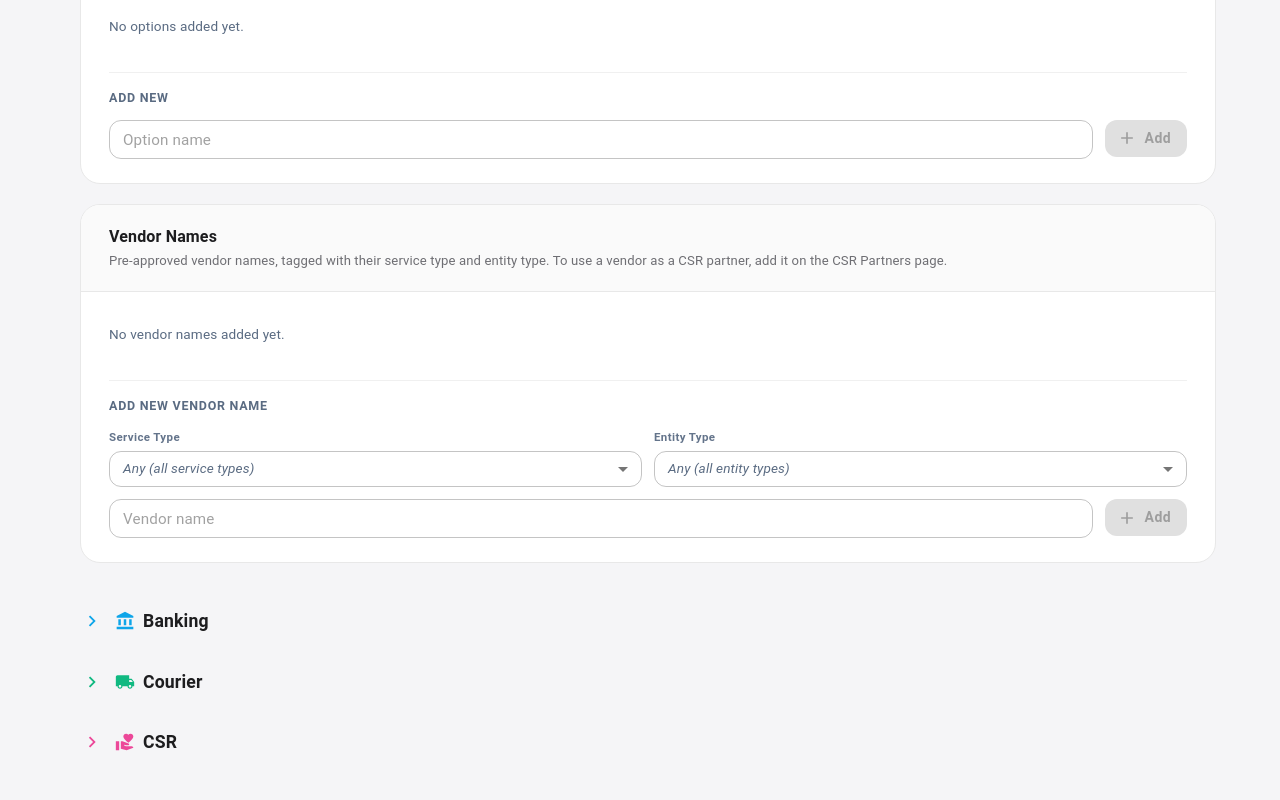
Scenario: a type in use that cannot be deleted shows the server reason
(page scrolled)
What coordinates should you click on to do the following:
click the text "CSR"
I would click on:
 (160, 742)
Its box is x1=143 y1=729 x2=177 y2=755.
(page scrolled)
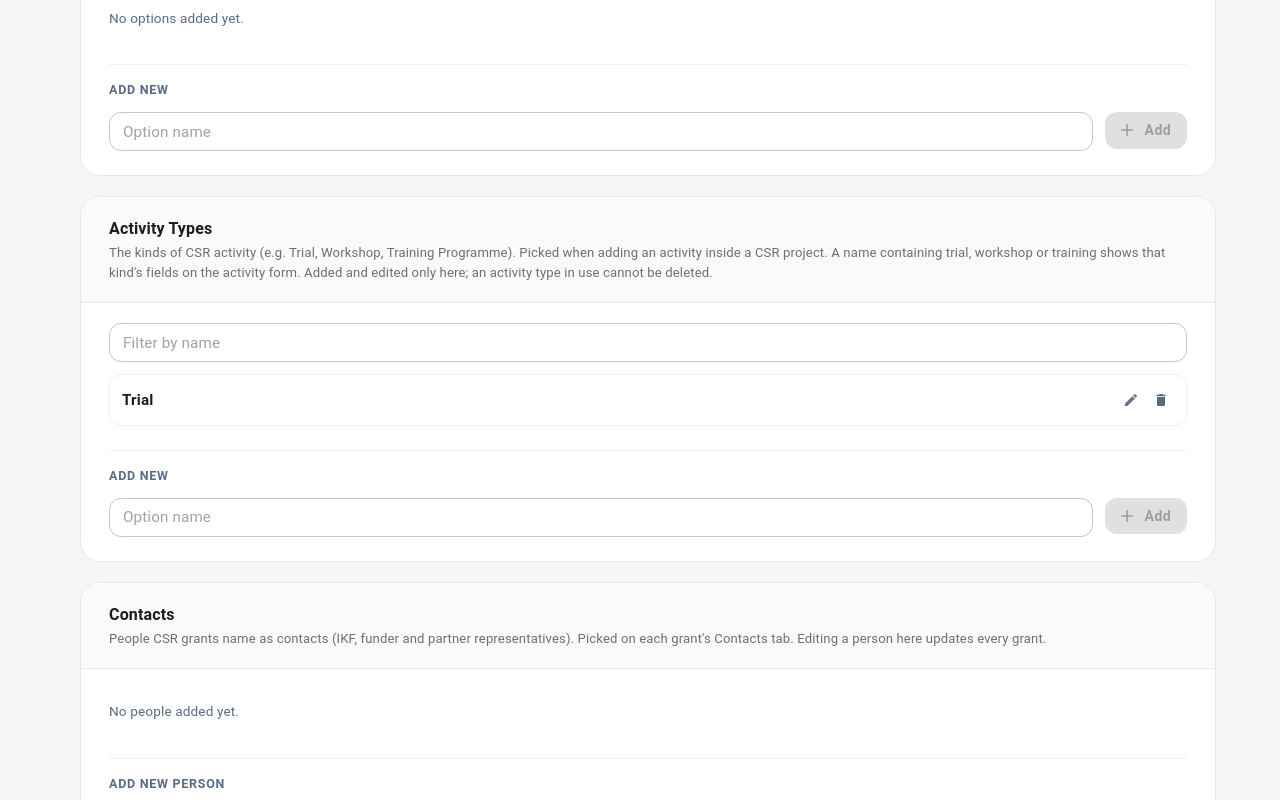
Check: the text "Trial" is shown, box x1=122 y1=389 x2=153 y2=412
What coordinates should you click on to do the following:
click the button named "Delete"
I would click on:
 (1161, 400)
Its box is x1=1148 y1=387 x2=1174 y2=413.
(page scrolled)
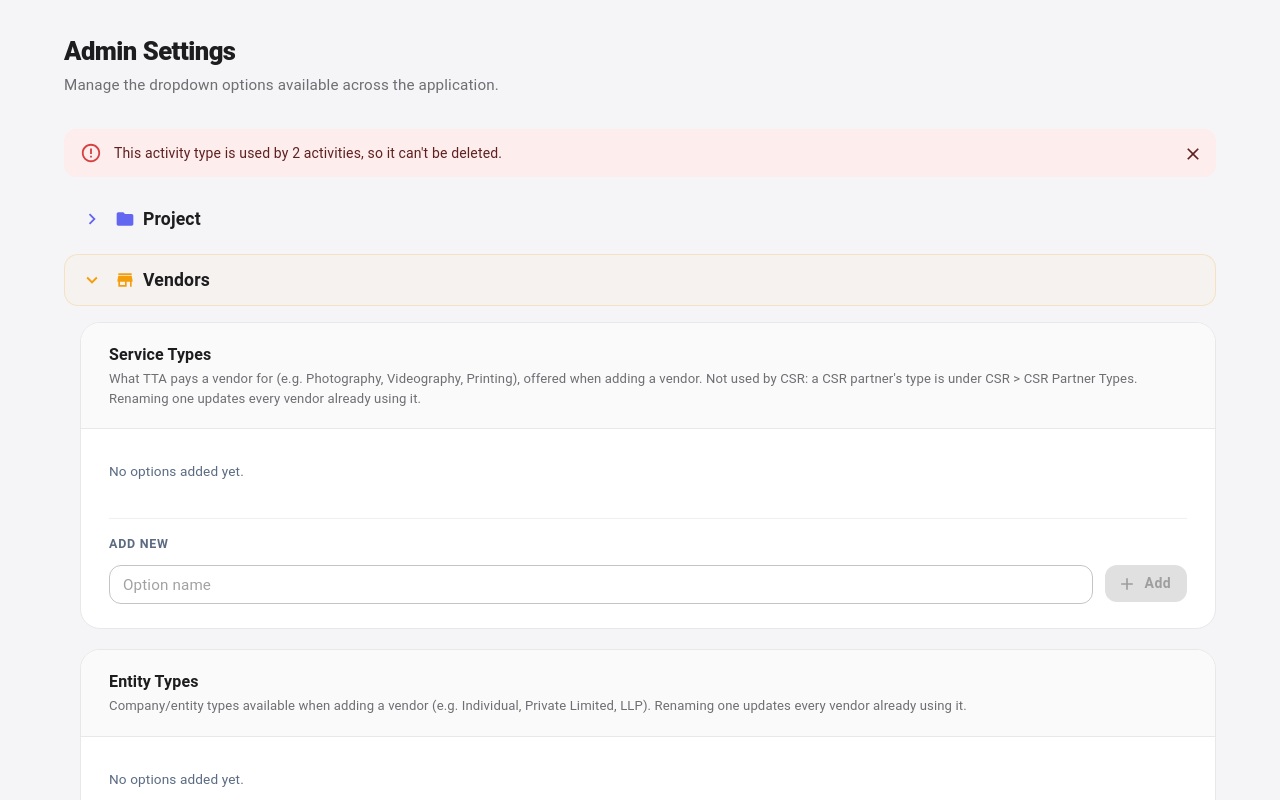
Check: the text "used by 2 activities, so it can't be deleted" is shown, box x1=114 y1=145 x2=502 y2=161
